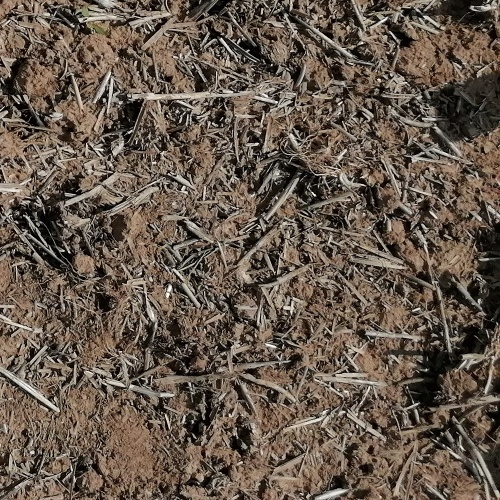beet: (82, 4, 109, 38)
